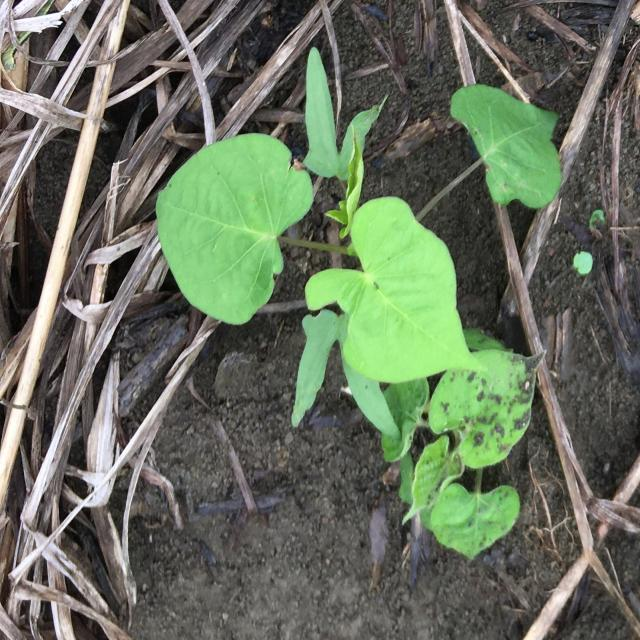MorningGlory: (155, 46, 562, 438), (380, 331, 546, 559)
